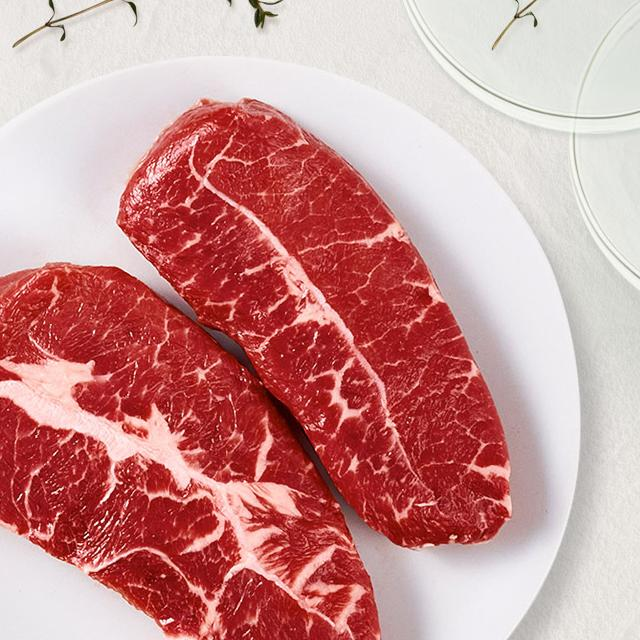beef: (0, 93, 519, 640)
